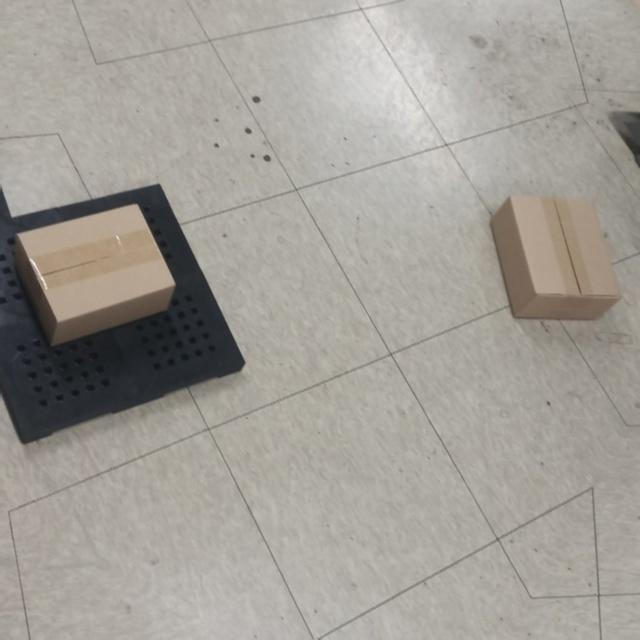box: (16, 196, 180, 350), (489, 185, 614, 325)
pallet: (0, 175, 249, 452)
